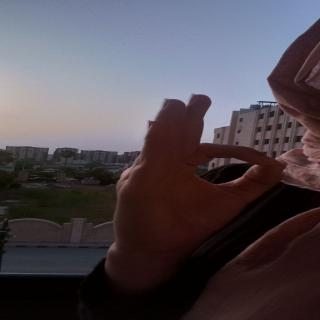Space: (94, 82, 294, 214)
